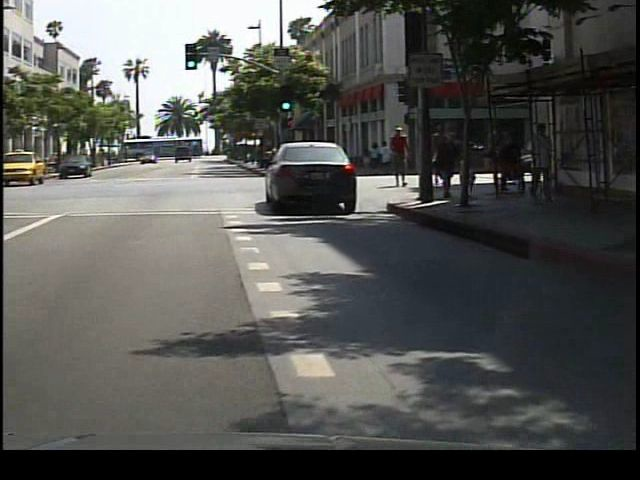person: (391, 123, 418, 191)
